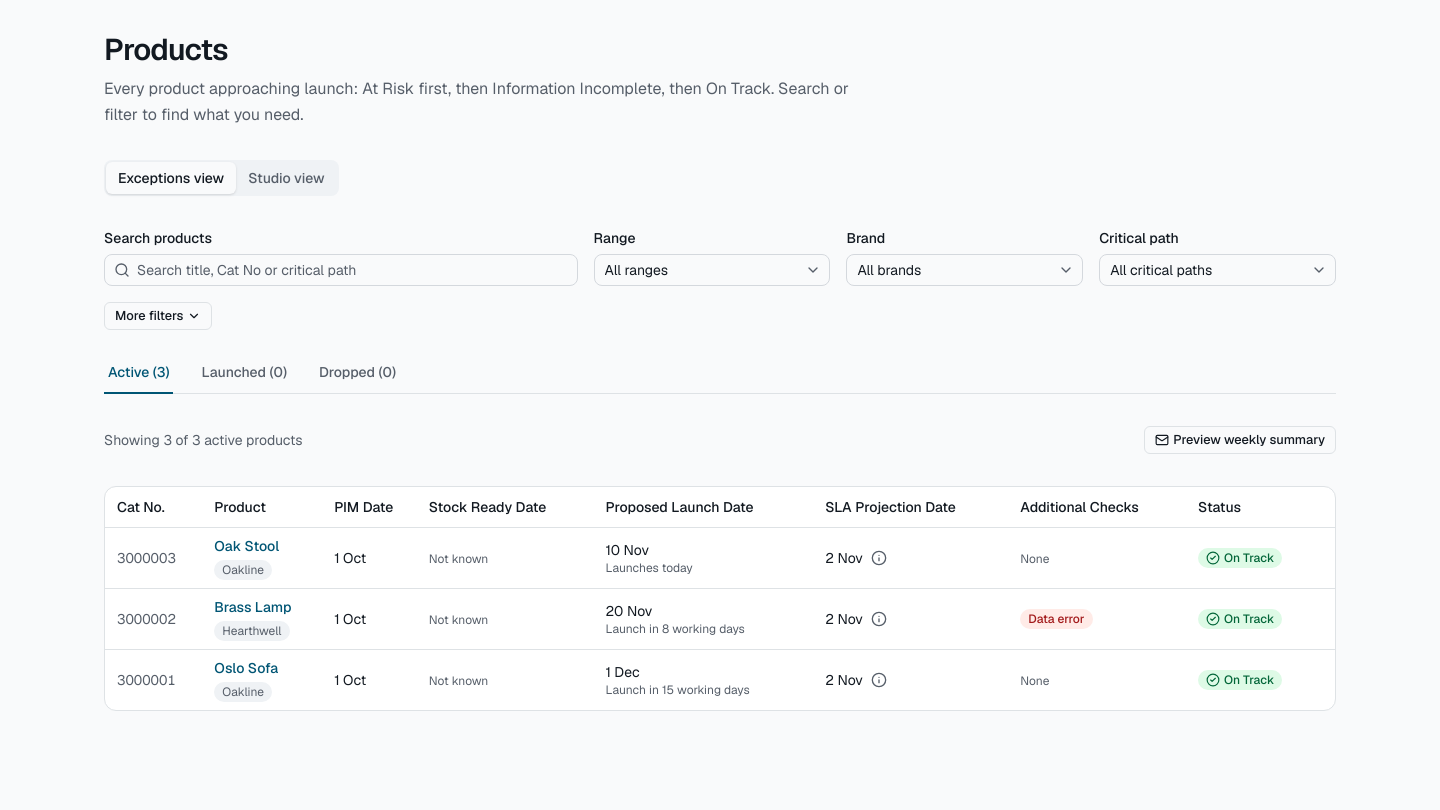
Test: Studio filters › explains when nothing matches
This screenshot has width=1440, height=810.
Click the button "Studio view" at x=286, y=178, box [236,162,337,194]
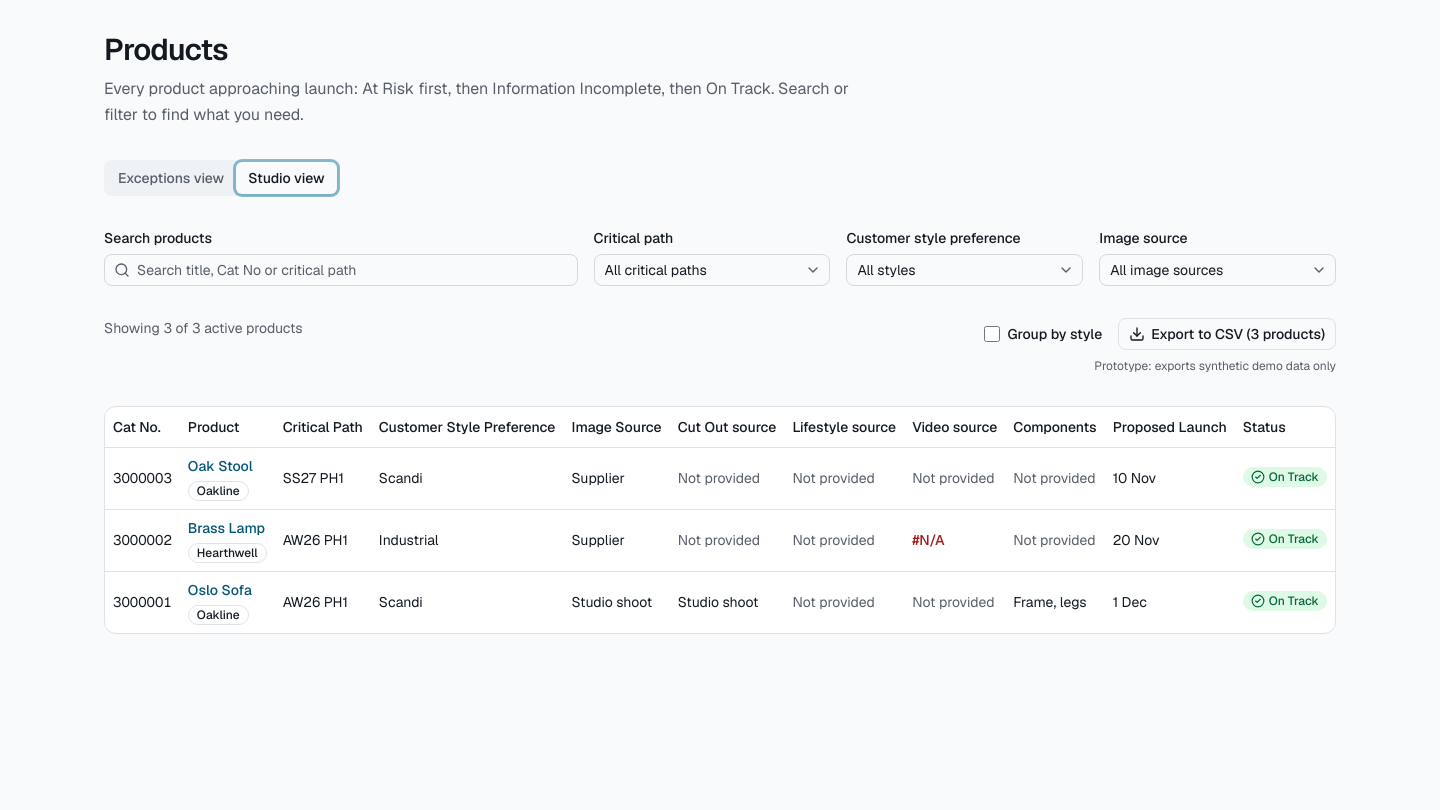
Type "zzzz" into the search field labelled "Search products" at x=341, y=270, box [104,254,578,286]
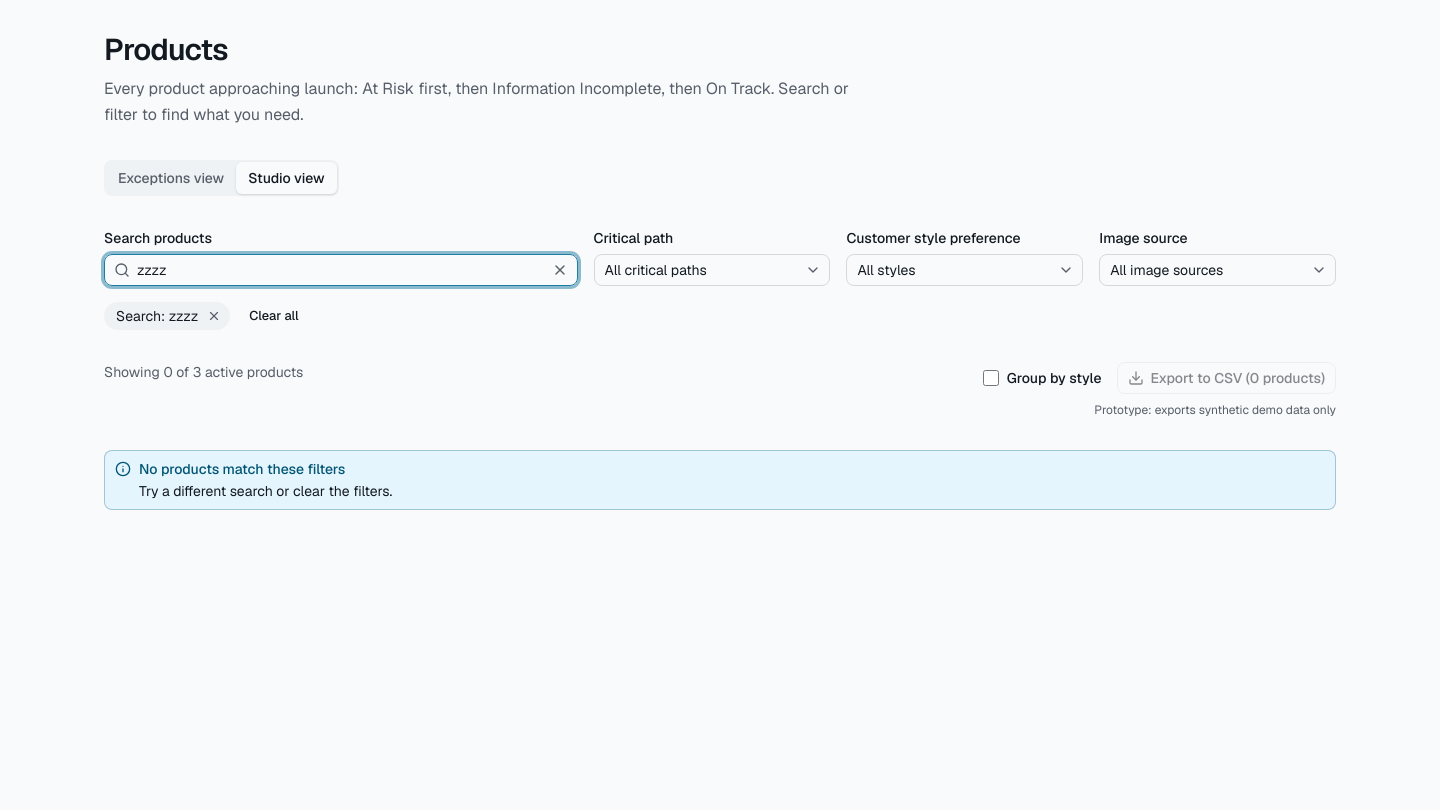
Expected: the text "No products match these filters" is shown, [139,460,345,478]
Expected: the button "Export to CSV (0 products)" is disabled, [1118,362,1336,394]
